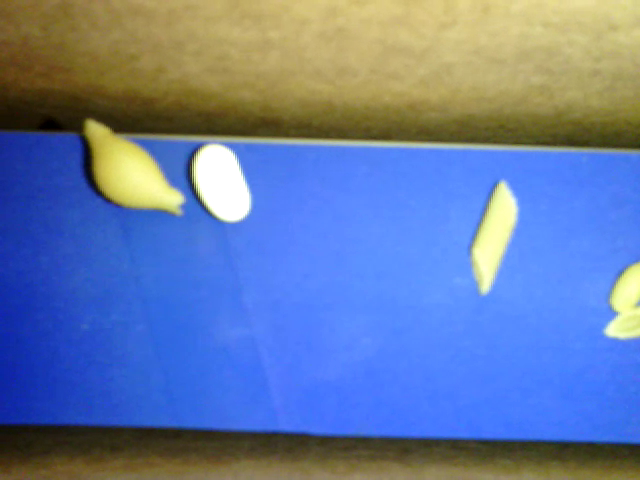penne: (472, 178, 517, 295)
shell: (84, 118, 185, 216)
